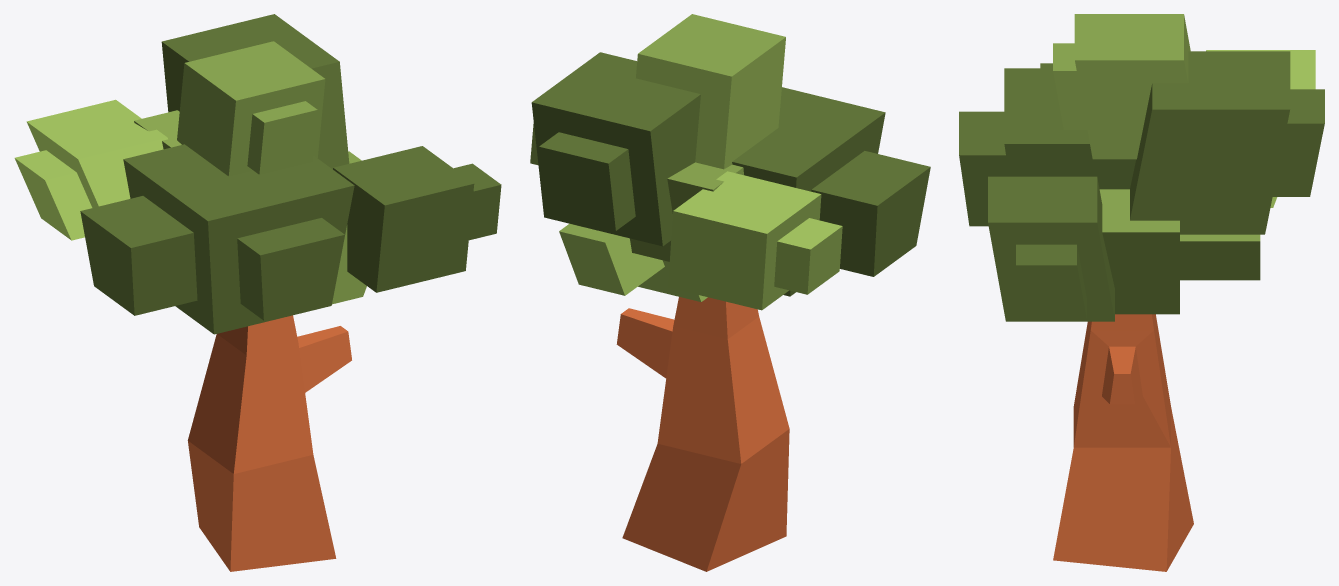
The model's file is tree1.fbx.
The picture shows the model from 3 angles, left to right: view 1: azimuth 30°, elevation 25°; view 2: azimuth 150°, elevation 25°; view 3: azimuth 270°, elevation 25°; orthographic projection. The views are drawn at different scales.
Visible parts, largest first — view 1: pCube3, pCube1, pCube7, pCube6, pCube8, pCube5, pCube2, pCube4; view 2: pCube1, pCube5, pCube3, pCube8, pCube6, pCube2, pCube4; view 3: pCube5, pCube1, pCube7, pCube6, pCube3, pCube2, pCube8.
Part boxes in pixels (<box>): pCube3: <box>80,144,354,334</box>; pCube1: <box>187,315,351,571</box>; pCube7: <box>333,146,501,292</box>; pCube6: <box>177,41,325,176</box>; pCube8: <box>14,99,167,240</box>; pCube5: <box>161,14,349,169</box>; pCube2: <box>332,151,366,304</box>; pCube4: <box>134,110,181,149</box>; pCube1: <box>616,297,789,571</box>; pCube5: <box>531,52,700,246</box>; pCube3: <box>732,87,930,296</box>; pCube8: <box>668,171,842,310</box>; pCube6: <box>636,14,785,169</box>; pCube2: <box>559,223,707,301</box>; pCube4: <box>630,162,743,261</box>; pCube5: <box>1130,51,1324,234</box>; pCube1: <box>1053,314,1193,571</box>; pCube7: <box>988,176,1114,321</box>; pCube6: <box>1053,14,1190,159</box>; pCube3: <box>959,63,1136,226</box>; pCube2: <box>1099,189,1260,314</box>; pCube8: <box>1206,50,1315,207</box>.
Bounding box in the file's own units: 294 × 369 × 245.
